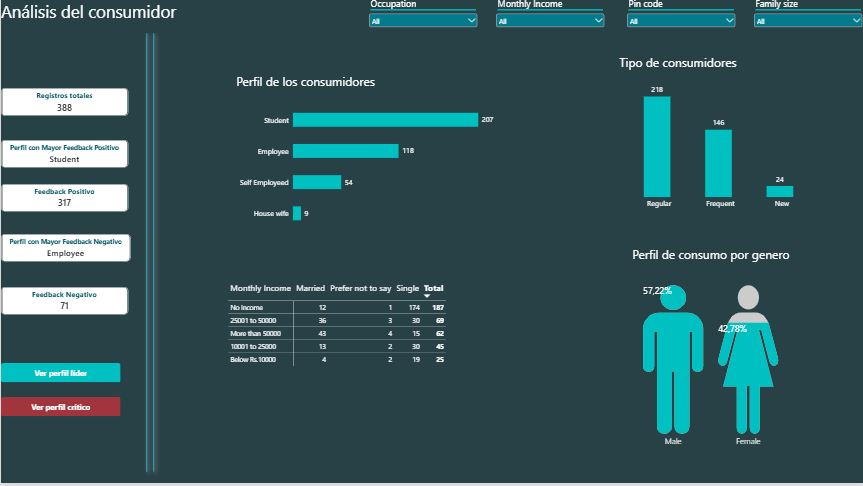

What the dashboard file says about the page in this screenshot:
{"tool":"powerbi","page":{"name":"Page 1","canvas":[1920,1080],"ordinal":0},"visuals":[{"type":"cardVisual","fields":{"Data":["Medidas.FeedbackP"]},"box":[0,415.8,282.8,61],"z":0},{"type":"columnChart","title":"Tipo de consumidores","fields":{"Category":["Analisis_definitivo.Customer Type"],"Y":["Medidas.Totalregistro"]},"box":[1357.3,112.9,482.3,377.2],"z":1000},{"type":"barChart","title":"Perfil de los consumidores","fields":{"Category":["Analisis_definitivo.Occupation"],"Y":["Medidas.Totalregistro"]},"box":[507.1,154.6,655.5,388],"z":2000},{"type":"cardVisual","title":"Perfil de cliente con mayor consumo","fields":{"Data":["Medidas.Ocupacion Mayor Feedback Positivo"]},"box":[0,318.5,282.8,61],"z":3000},{"type":"cardVisual","fields":{"Data":["Medidas.Totalregistro"]},"box":[0,202.8,282.8,61.9],"z":4000},{"type":"cardVisual","title":"Perfil de cliente con mayor consumo","fields":{"Data":["Medidas.Occupacion feedback negativo"]},"box":[0,527.1,287.5,61],"z":5000},{"type":"cardVisual","fields":{"Data":["Medidas.FeedbackN"]},"box":[0,644.6,282.8,61],"z":6000},{"type":"PBI_CV_73744D90_4DC9_4F18_8BA5_EE8FA5C98035","title":"Perfil de consumo por genero","fields":{"Category":["Analisis_definitivo.Gender"],"Values":["Divide(Medidas.Totalregistro, ScopedEval(Medidas.Totalregistro, []))"]},"box":[1386.7,539.5,381.8,477.7],"z":7000},{"type":"pivotTable","fields":{"Columns":["Analisis_definitivo.Marital Status"],"Rows":["Analisis_definitivo.Monthly Income"],"Values":["Medidas.Totalregistro"]},"box":[488.8,615.7,554.4,322.4],"z":8000},{"type":"shape","box":[287.5,66.5,74.2,1001.7],"z":9000},{"type":"shape","box":[301.4,66.5,74.2,1001.7],"z":10000},{"type":"slicer","fields":{"Values":["Analisis_definitivo.Family size"]},"box":[1669.6,0,250.4,78.8],"z":11000},{"type":"slicer","fields":{"Values":["Analisis_definitivo.Pin code"]},"box":[1386.7,0,250.4,78.8],"z":12000},{"type":"actionButton","box":[0,814.1,265.9,43.3],"z":13000},{"type":"actionButton","box":[0,890,265.9,43.3],"z":13001},{"type":"slicer","fields":{"Values":["Analisis_definitivo.Monthly Income"]},"box":[1095.7,0,250.4,78.8],"z":13002},{"type":"slicer","fields":{"Values":["Analisis_definitivo.Occupation"]},"box":[812.6,0,250.4,78.8],"z":13003},{"type":"textbox","box":[0,7.3,536.9,59.8],"z":13004}]}

Visuals, with their boxes in screenshot pixels (x1, y1, x2, y2), scaled from the page's 1920x1080 canvas onto the 863x486 screenshot:
cardVisual - Medidas.FeedbackP: region(0, 187, 127, 215)
"Tipo de consumidores" columnChart: region(610, 51, 827, 221)
"Perfil de los consumidores" barChart: region(228, 70, 523, 244)
"Perfil de cliente con mayor consumo" cardVisual: region(0, 143, 127, 171)
cardVisual - Medidas.Totalregistro: region(0, 91, 127, 119)
"Perfil de cliente con mayor consumo" cardVisual: region(0, 237, 129, 265)
cardVisual - Medidas.FeedbackN: region(0, 290, 127, 318)
"Perfil de consumo por genero" PBI_CV_73744D90_4DC9_4F18_8BA5_EE8FA5C98035: region(623, 243, 795, 458)
pivotTable - Analisis_definitivo.Marital Status x Analisis_definitivo.Monthly Income: region(220, 277, 469, 422)
shape: region(129, 30, 163, 481)
shape: region(135, 30, 169, 481)
slicer - Analisis_definitivo.Family size: region(750, 0, 862, 35)
slicer - Analisis_definitivo.Pin code: region(623, 0, 736, 35)
actionButton: region(0, 366, 120, 386)
actionButton: region(0, 400, 120, 420)
slicer - Analisis_definitivo.Monthly Income: region(492, 0, 605, 35)
slicer - Analisis_definitivo.Occupation: region(365, 0, 478, 35)
textbox: region(0, 3, 241, 30)
